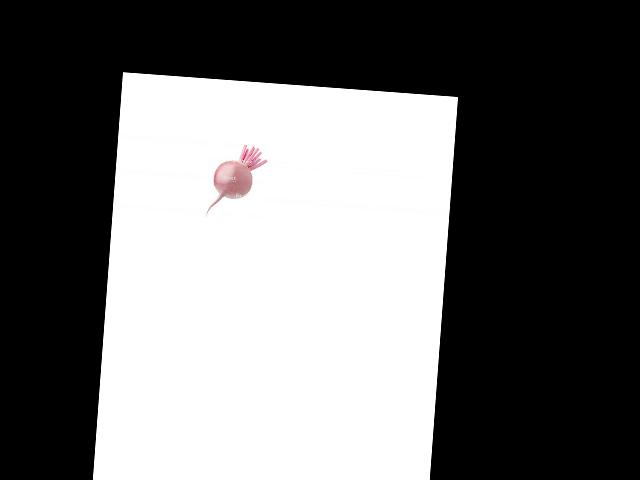beet: (205, 142, 268, 219)
